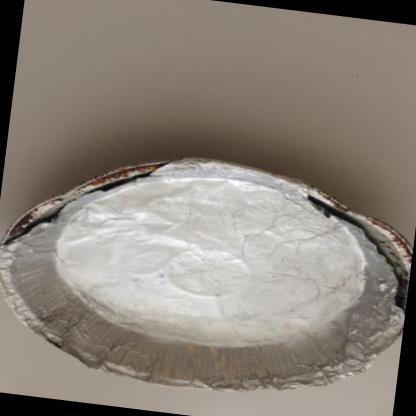Metal: (0, 157, 411, 389)
